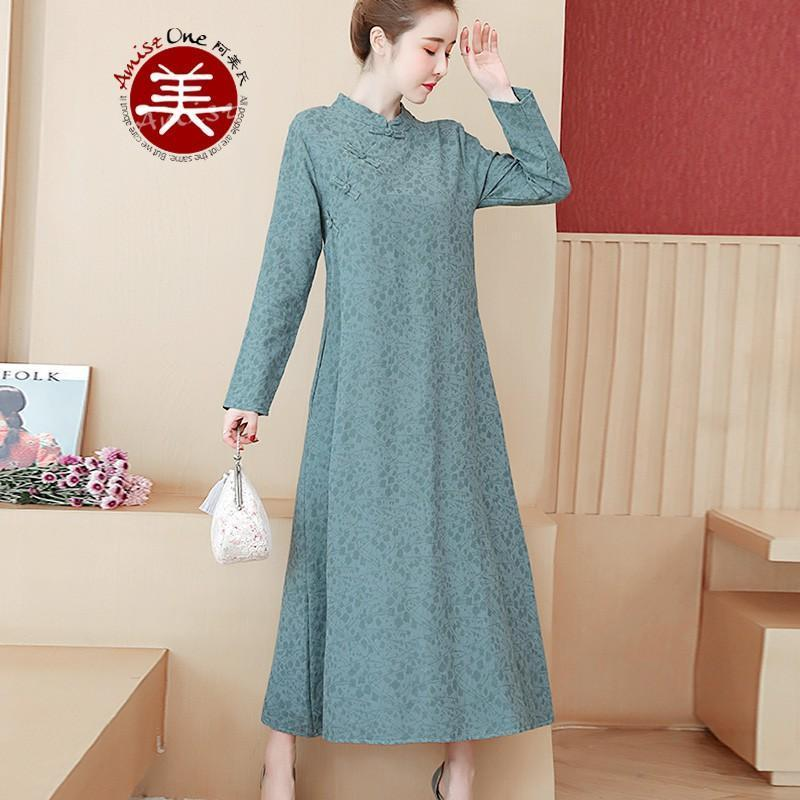dress: (222, 82, 575, 758)
